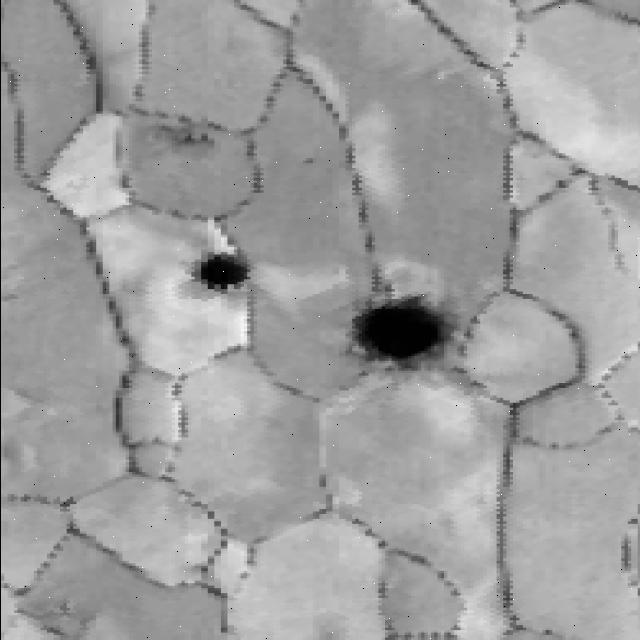good_void: (351, 287, 450, 367), (189, 247, 263, 296), (142, 117, 219, 160), (297, 156, 319, 172)
